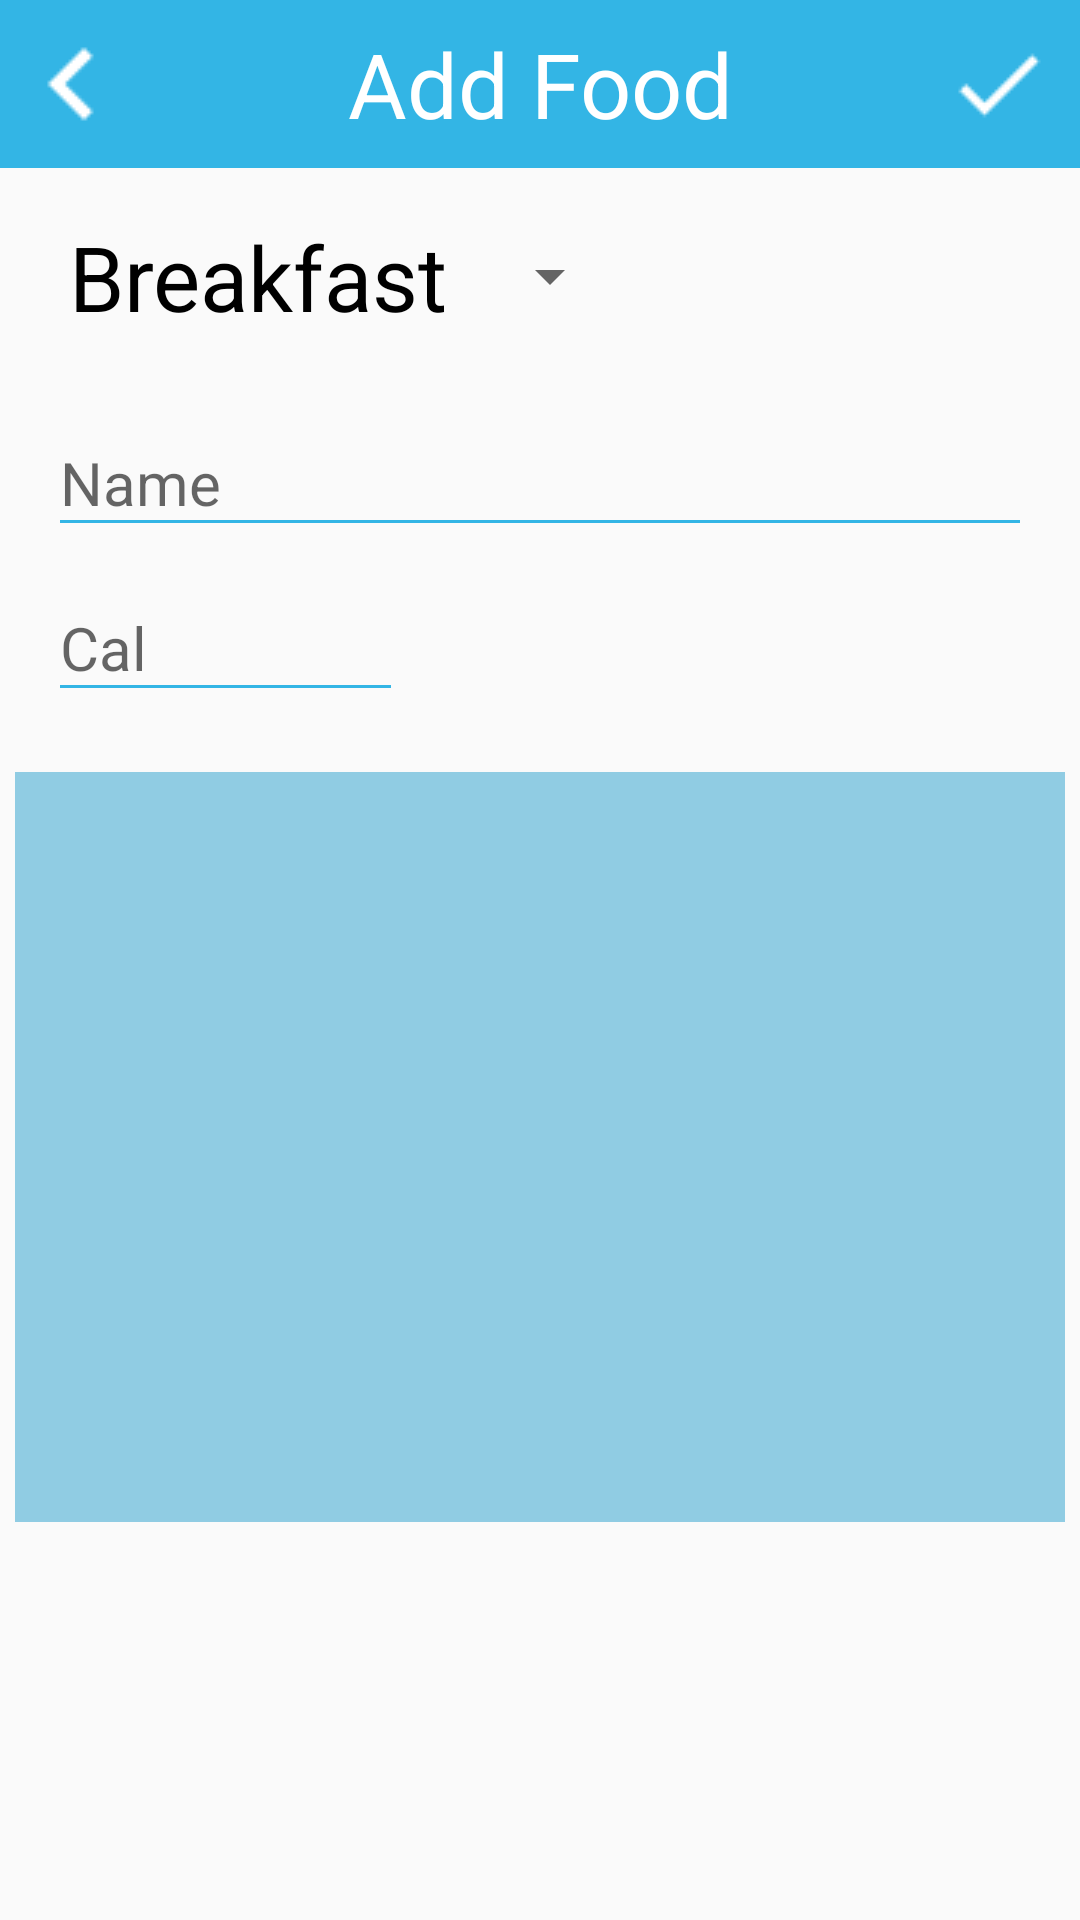

Icon bounding boxes for this 1080px x 1920px phone screenshot, format (x1, y1, x2, y2):
check: (958, 54, 1040, 117)
chevron left: (47, 47, 94, 121)
